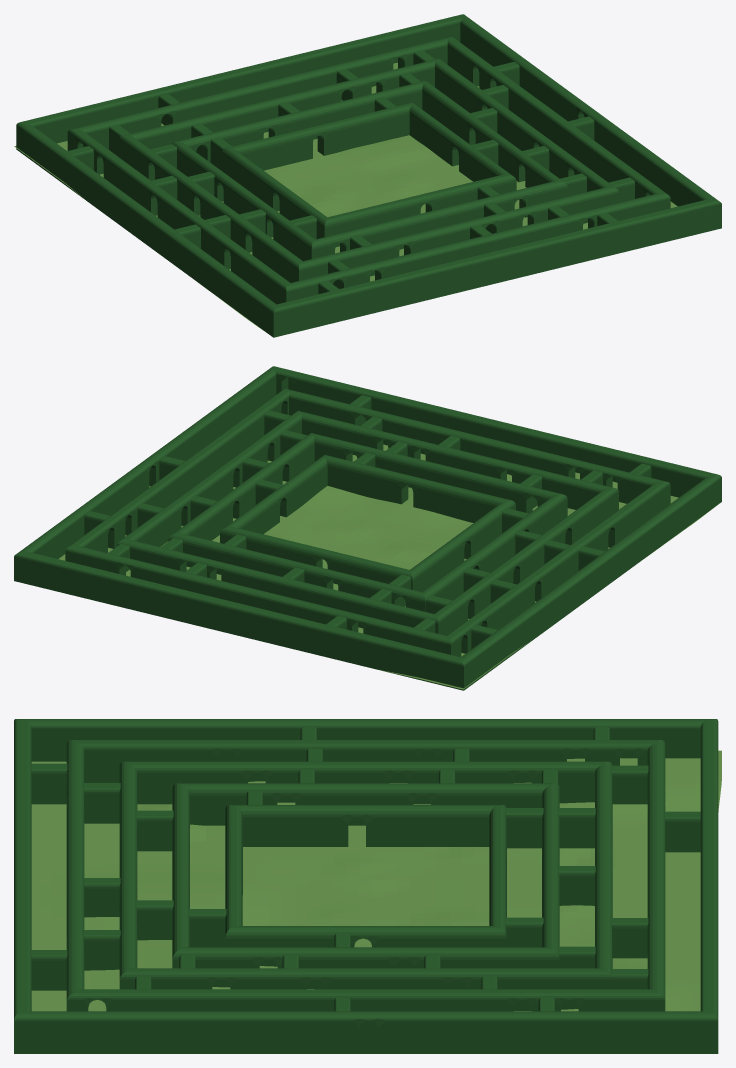
The model's file is Maze 6.fbx.
3 views of the same model, one above another, from view 1: azimuth 30°, elevation 25°; view 2: azimuth 150°, elevation 25°; view 3: azimuth 270°, elevation 25° (orthographic). The views are drawn at different scales.
Visible parts, largest first — view 1: Walls 1.006, Walls 2.006, Walls 3.006, Walls 4.007, Walls 5.006, Floor.007; view 2: Walls 1.006, Walls 2.006, Walls 3.006, Walls 4.007, Walls 5.006, Floor.007; view 3: Walls 1.006, Floor.007, Walls 2.006, Walls 3.006, Walls 4.007, Walls 5.006, Bush Blocker.150, Bush Blocker.145, Bush Blocker.168, Bush Blocker.162, Bush Blocker.166, Bush Blocker.144 (+11 smaller).
Part boxes in pixels (<box>): Walls 1.006: <box>16,14,721,337</box>; Walls 2.006: <box>67,36,670,304</box>; Walls 3.006: <box>119,58,619,282</box>; Walls 4.007: <box>171,80,567,261</box>; Walls 5.006: <box>221,102,516,246</box>; Floor.007: <box>14,62,677,331</box>; Walls 1.006: <box>14,366,721,690</box>; Walls 2.006: <box>65,388,670,657</box>; Walls 3.006: <box>117,411,618,635</box>; Walls 4.007: <box>168,433,567,611</box>; Walls 5.006: <box>220,455,515,591</box>; Floor.007: <box>58,444,714,689</box>; Walls 1.006: <box>14,719,718,1053</box>; Floor.007: <box>31,750,721,1011</box>; Walls 2.006: <box>66,740,665,1011</box>; Walls 3.006: <box>119,761,612,1010</box>; Walls 4.007: <box>172,783,559,989</box>; Walls 5.006: <box>225,805,506,968</box>; Bush Blocker.150: <box>136,810,173,851</box>; Bush Blocker.145: <box>31,763,67,804</box>; Bush Blocker.168: <box>665,811,700,852</box>; Bush Blocker.162: <box>558,808,595,848</box>; Bush Blocker.166: <box>611,918,648,958</box>; Bush Blocker.144: <box>31,950,67,990</box>.
Bounding box in the file's own units: 6009 × 368 × 5992.
